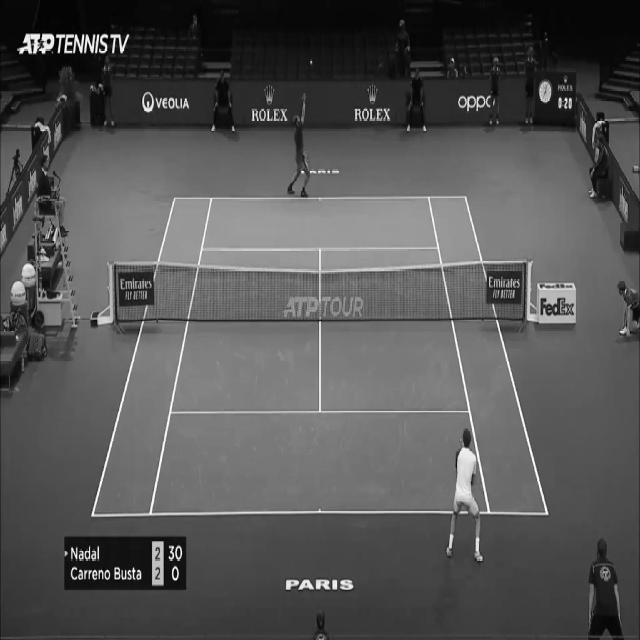tennis-court: (90, 196, 549, 517)
